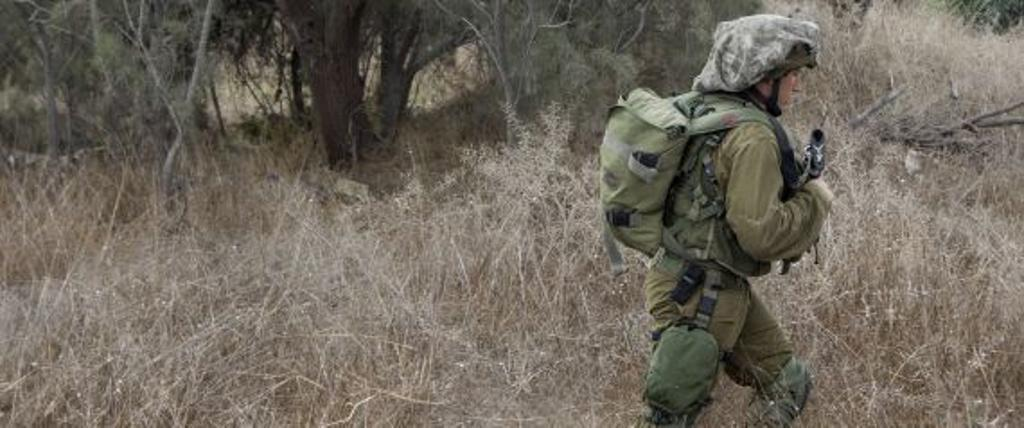face: (769, 56, 802, 111)
